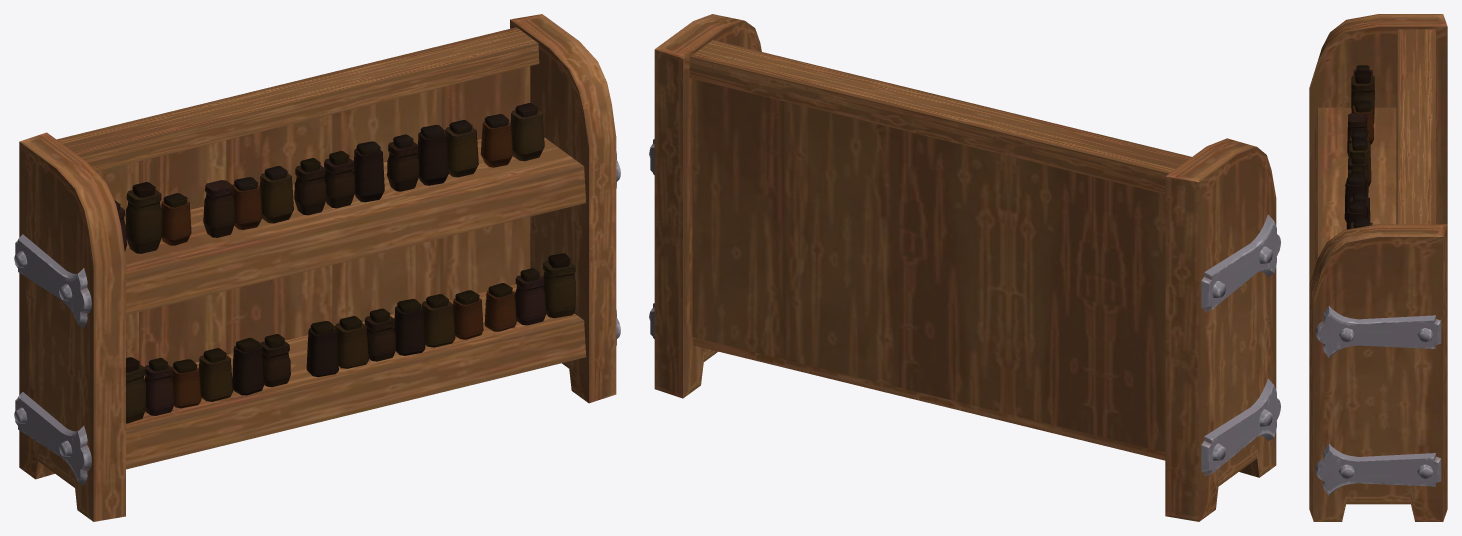
Rendered from shelf_small_bottles.glb.
3 renders of one model, left to right at view 1: azimuth 30°, elevation 25°; view 2: azimuth 150°, elevation 25°; view 3: azimuth 270°, elevation 25°, orthographic. The views are drawn at different scales.
Visible parts, largest first — view 1: Shelf_Small_Bottles; view 2: Shelf_Small_Bottles; view 3: Shelf_Small_Bottles.
Part boxes in pixels (x1,y1,x2,y2): Shelf_Small_Bottles: [14, 14, 620, 521]; Shelf_Small_Bottles: [649, 14, 1280, 521]; Shelf_Small_Bottles: [1309, 14, 1447, 521].
Size of the model in its own units: 1.14 by 0.6474 by 0.2846.
Materials: 3 (3 with a texture image).
